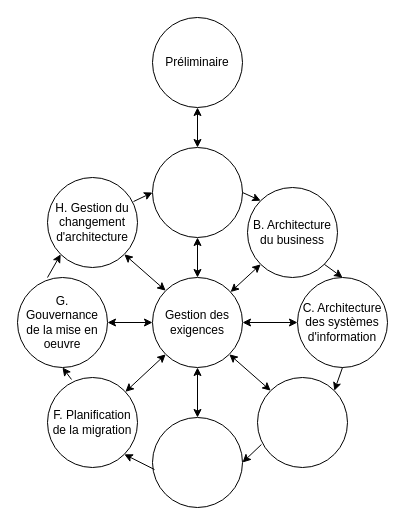
Image size: 405x525. Some labels were removed from this diagram. The shapes that lost their labels are listed below. From the top down, each one's box as (x1, y1, x2, y2) in pixels, then its label:
(152, 146, 242, 238): A. Vision de l'architecture
(256, 376, 348, 468): D. Architecture technologique
(152, 416, 242, 508): E. Opportunités et solutions
